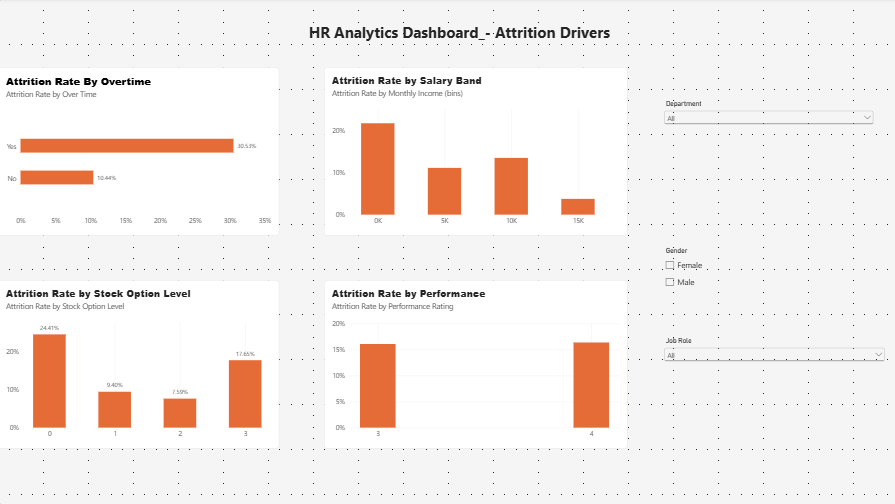

Layout of this report page (visuals, bound fields, positions):
{"tool":"powerbi","page":{"name":"Attrition Drivers","canvas":[1920,1080],"ordinal":1},"visuals":[{"type":"textbox","box":[0,0,288,96],"z":0},{"type":"textbox","box":[384,48,1200,48],"z":3},{"type":"slicer","fields":{"Values":["Dim_Employee.Department"]},"box":[1416,216,456,216],"z":4},{"type":"slicer","fields":{"Values":["Dim_Employee.Gender"]},"box":[1416,528,456,216],"z":5},{"type":"clusteredBarChart","title":"Attrition Rate By Overtime","fields":{"Category":["Fact_HR.Over Time"],"Y":["Fact_HR.Attrition Rate"]},"box":[0,144,600,360],"z":6},{"type":"clusteredColumnChart","title":"Attrition Rate by Stock  Option Level","fields":{"Category":["Fact_HR.Stock Option Level"],"Y":["Fact_HR.Attrition Rate"]},"box":[0,600,600,360],"z":7},{"type":"clusteredColumnChart","title":"Attrition Rate by Salary Band ","fields":{"Category":["Fact_HR.Monthly Income (bins)"],"Y":["Fact_HR.Attrition Rate"]},"box":[696,144,648,360],"z":8},{"type":"clusteredColumnChart","title":"Attrition Rate by Performance","fields":{"Category":["Fact_HR.Performance Rating"],"Y":["Fact_HR.Attrition Rate"]},"box":[696,600,648,360],"z":9},{"type":"slicer","fields":{"Values":["Dim_Employee.Job Role"]},"box":[1416,720,480,216],"z":10}]}

Visuals, with their boxes in screenshot pixels (x1, y1, x2, y2), scaled from the page's 1920x1080 canvas onto the 895x504 screenshot:
textbox: (0, 0, 134, 45)
textbox: (179, 22, 738, 45)
slicer - Dim_Employee.Department: (660, 101, 873, 202)
slicer - Dim_Employee.Gender: (660, 246, 873, 347)
"Attrition Rate By Overtime" clusteredBarChart: (0, 67, 280, 235)
"Attrition Rate by Stock  Option Level" clusteredColumnChart: (0, 280, 280, 448)
"Attrition Rate by Salary Band " clusteredColumnChart: (324, 67, 626, 235)
"Attrition Rate by Performance" clusteredColumnChart: (324, 280, 626, 448)
slicer - Dim_Employee.Job Role: (660, 336, 884, 437)
